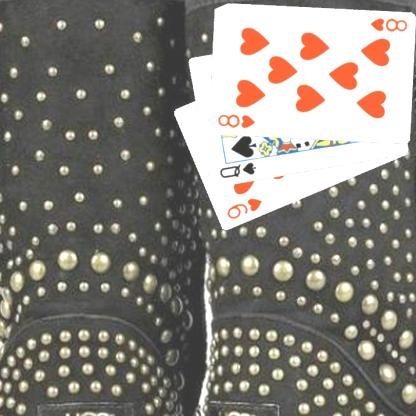8H: (367, 16, 409, 34), (215, 112, 256, 130)
9H: (224, 195, 263, 221)
QS: (217, 160, 257, 180)
